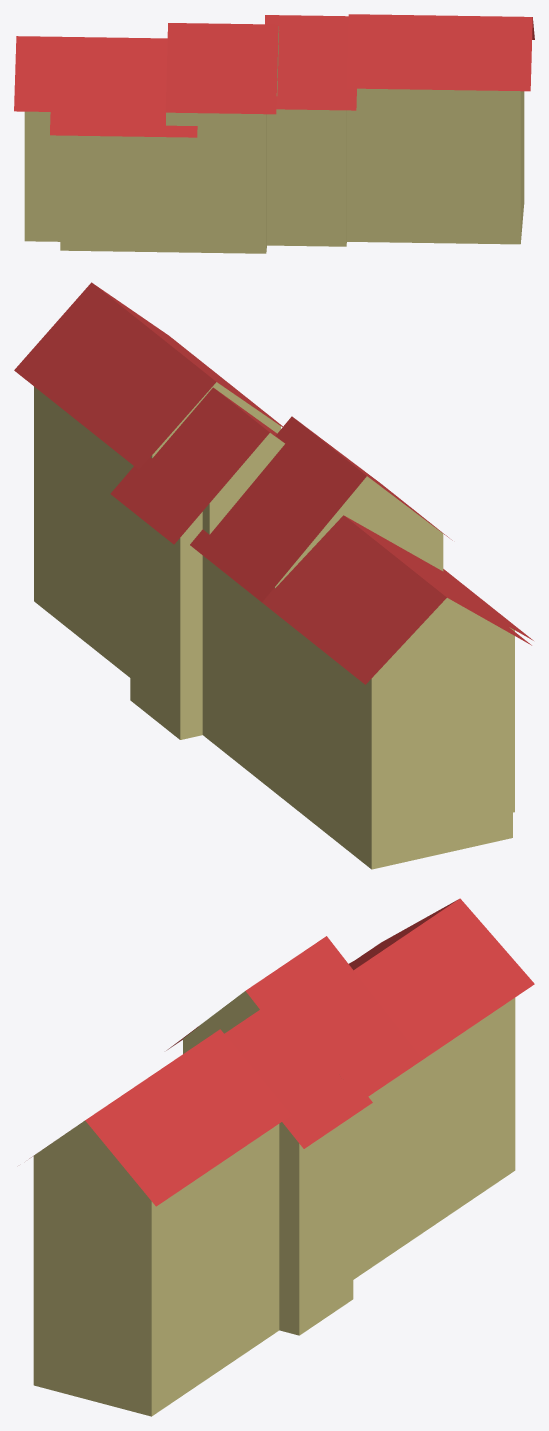
3 views of the same model, one above another, from view 1: azimuth 30°, elevation 25°; view 2: azimuth 150°, elevation 25°; view 3: azimuth 270°, elevation 25° (orthographic). The views are drawn at different scales.
Size of the model in its own units: 49.5 by 36.7 by 22.21.
